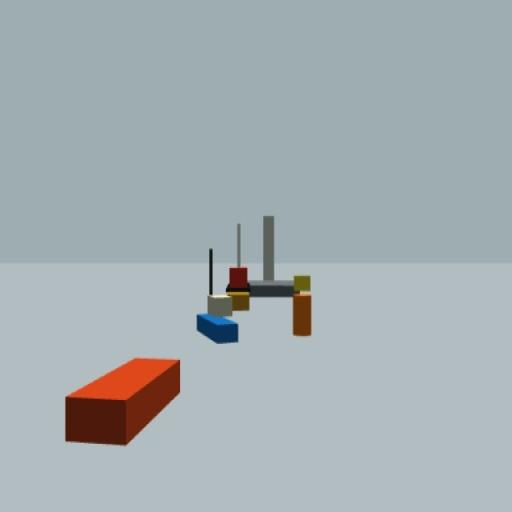buoy: (292, 274, 314, 339)
debris_container: (65, 357, 182, 448)
fishing_boat: (195, 249, 240, 345)
platform: (248, 217, 298, 296)
vessel: (227, 222, 250, 310)
